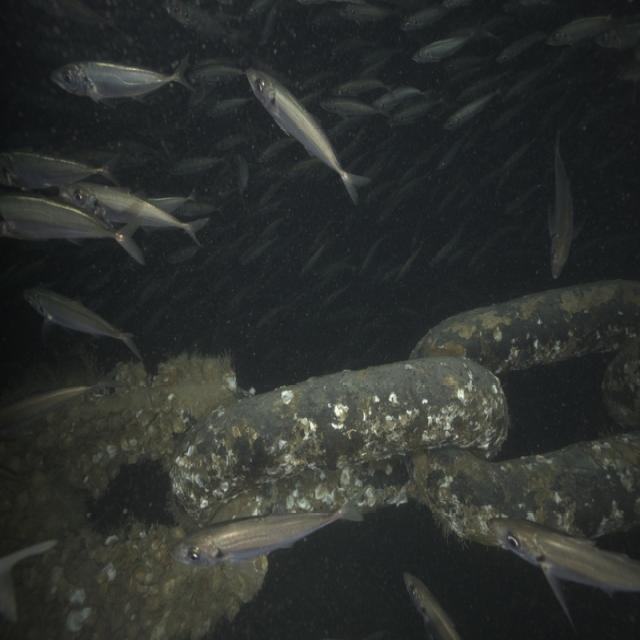ChainLink: (0, 356, 266, 638), (170, 357, 506, 524), (411, 432, 640, 544), (411, 280, 640, 374)
